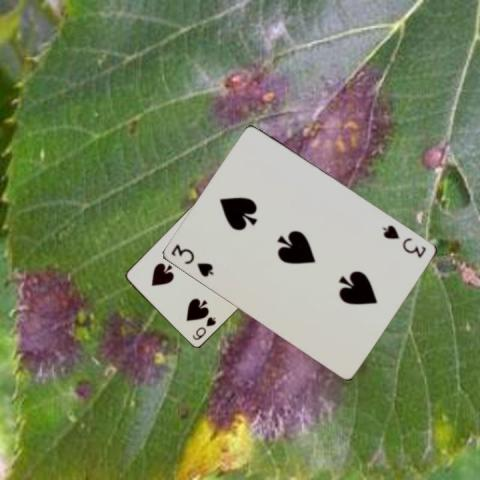3s: (380, 221, 428, 259), (169, 241, 216, 279)
6s: (190, 314, 218, 342)
